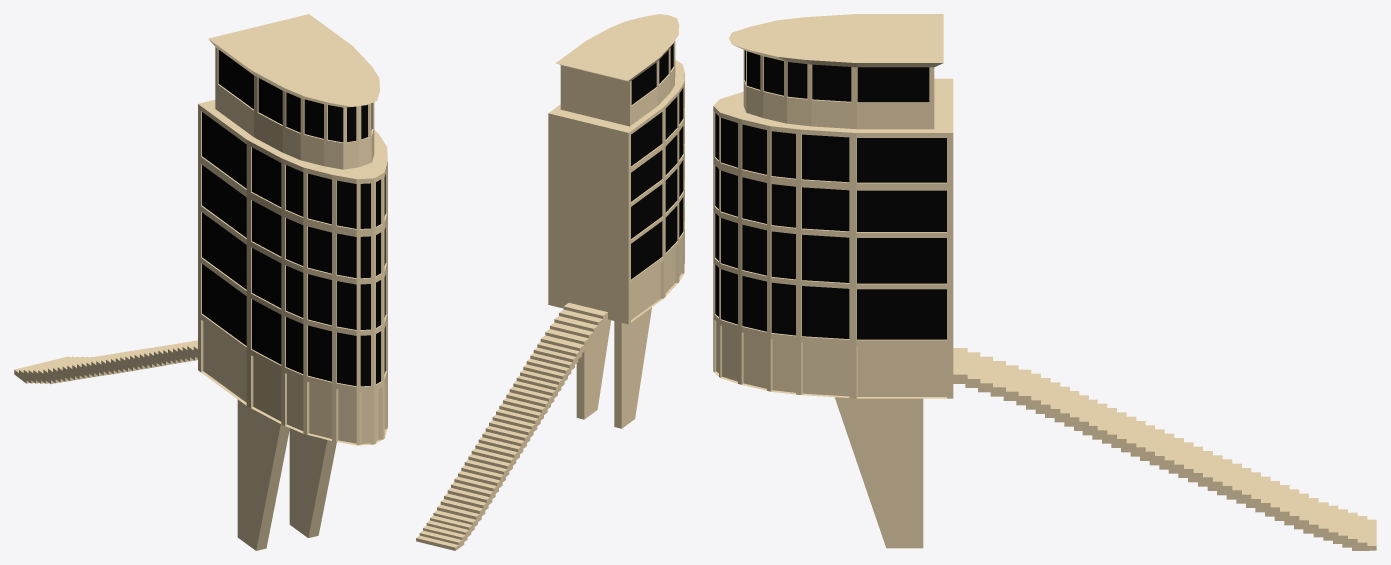
Rendered from Viewing tower.fbx.
3 views of the same model, side by side, from view 1: azimuth 30°, elevation 25°; view 2: azimuth 150°, elevation 25°; view 3: azimuth 270°, elevation 25° (orthographic). The views are drawn at different scales.
Parts seen in each view (by area): view 1: viewing tower; view 2: viewing tower; view 3: viewing tower.
Part boxes in pixels (<box>): viewing tower: <box>14,14,387,550</box>; viewing tower: <box>416,14,684,550</box>; viewing tower: <box>713,14,1376,550</box>.
Bounding box in the file's own units: 523 × 2239 × 2698.
